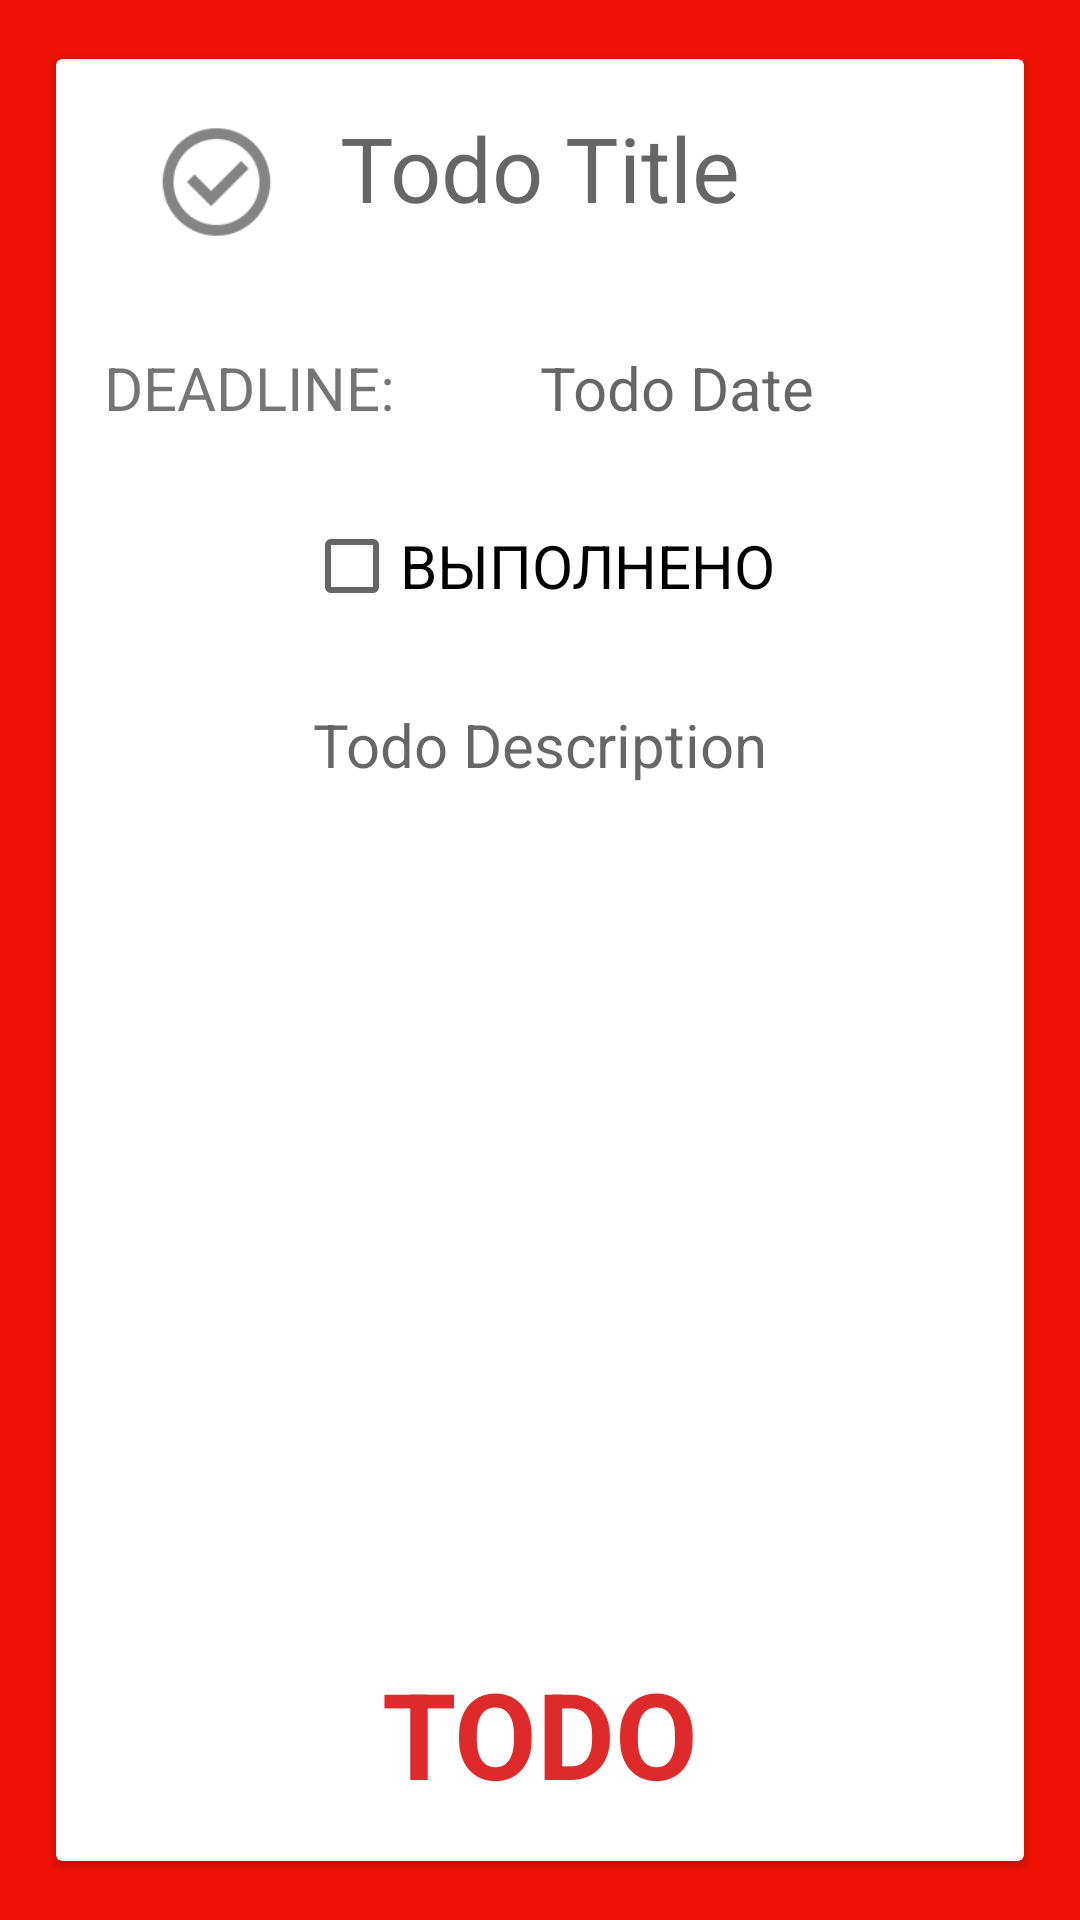

Icon bounding boxes for this 1080×1920 phone screenshot, format bbox(x1, y1, x2, y2):
check circle: bbox(162, 128, 271, 236)
